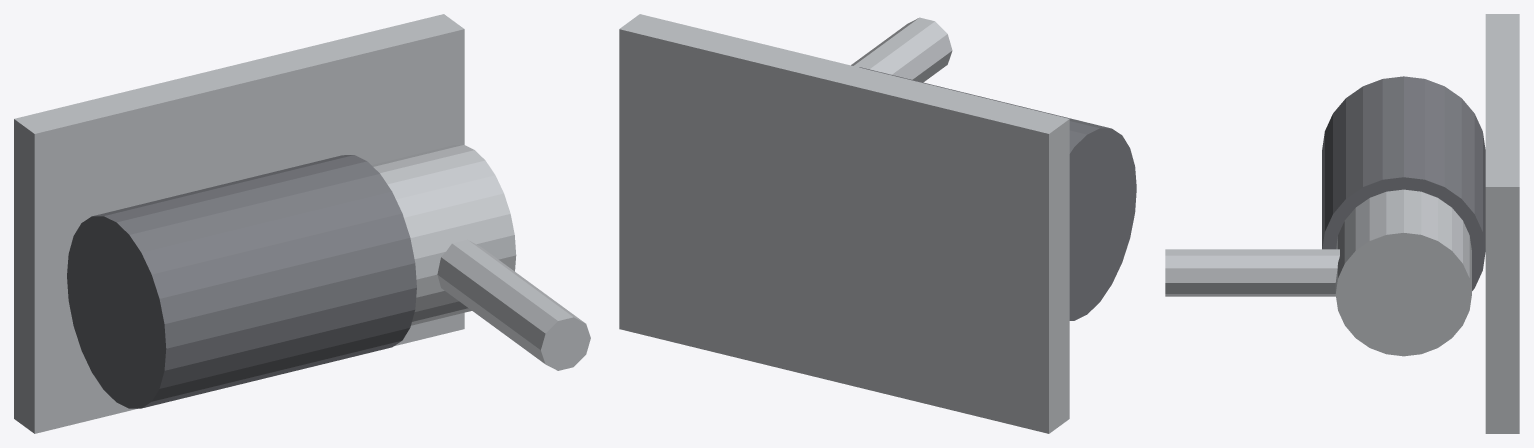
The model's file is pump.obj.
The picture shows the model from 3 angles, left to right: view 1: azimuth 30°, elevation 25°; view 2: azimuth 150°, elevation 25°; view 3: azimuth 270°, elevation 25°; orthographic projection. The views are drawn at different scales.
Size of the model in its own units: 0.6 by 0.4 by 0.52.
